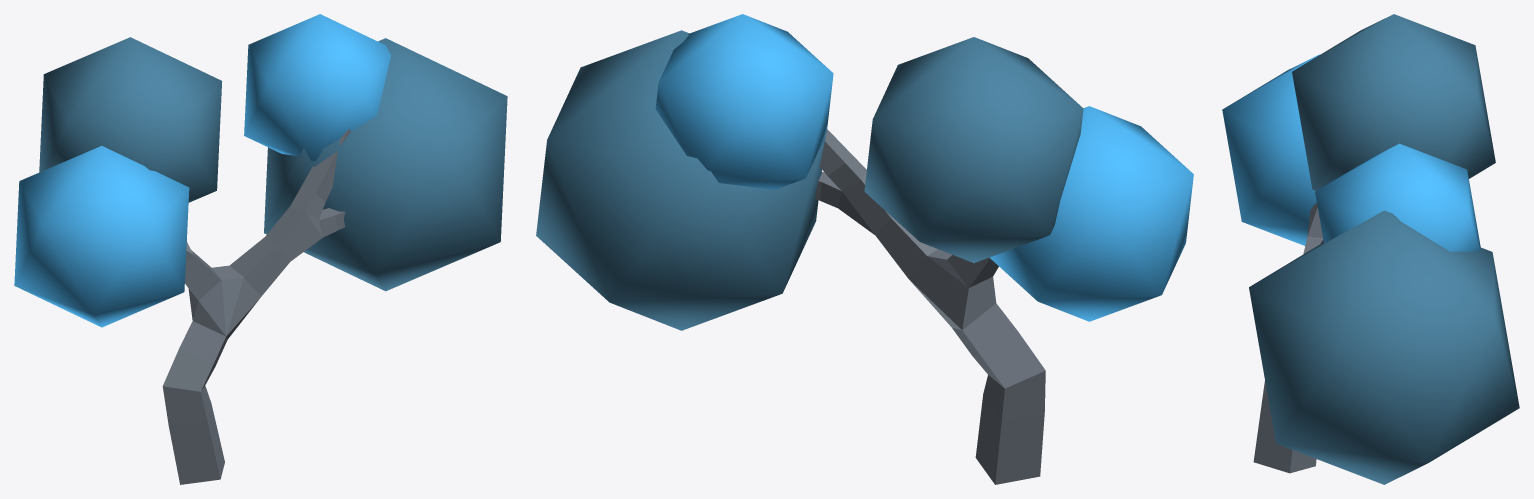
File: TreesBlues.glb
3 views of the same model, side by side, from view 1: azimuth 30°, elevation 25°; view 2: azimuth 150°, elevation 25°; view 3: azimuth 270°, elevation 25° (orthographic). The views are drawn at different scales.
Visible parts, largest first — view 1: ทรงกลม Ico.007, ทรงกลม Ico.004, ทรงกลม Ico.005, Cube, ทรงกลม Ico.006; view 2: ทรงกลม Ico.007, ทรงกลม Ico.005, ทรงกลม Ico.004, ทรงกลม Ico.006, Cube; view 3: ทรงกลม Ico.007, ทรงกลม Ico.005, ทรงกลม Ico.006, ทรงกลม Ico.004, Cube.
Part boxes in pixels (x1,y1,x2,y2): ทรงกลม Ico.007: (264,38,507,291); ทรงกลม Ico.004: (14,146,189,327); ทรงกลม Ico.005: (39,37,222,202); Cube: (162,129,350,484); ทรงกลม Ico.006: (244,14,391,161); ทรงกลม Ico.007: (536,30,826,330); ทรงกลม Ico.005: (864,37,1083,262); ทรงกลม Ico.004: (989,106,1193,321); ทรงกลม Ico.006: (655,14,833,189); Cube: (815,129,1045,484); ทรงกลม Ico.007: (1249,210,1519,484); ทรงกลม Ico.005: (1292,14,1495,190); ทรงกลม Ico.006: (1315,143,1480,251); ทรงกลม Ico.004: (1222,54,1319,245); Cube: (1253,203,1323,473).
Size of the model in its own units: 2.28 by 1.81 by 1.1.
